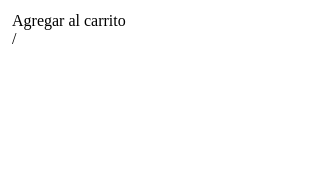
Test: AddToCart › adds one unit and confirms it
Click the button with aria-label "Agregar al carrito: Flux" at (69, 21), box [12,12,126,30]
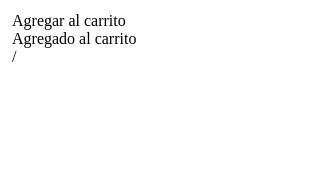
Expected: the text "Agregado al carrito" is shown, [12,30,136,48]
